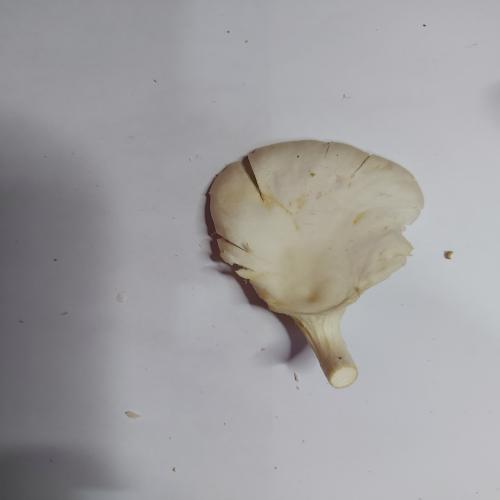Oyster Mushroom: (204, 138, 425, 389)
